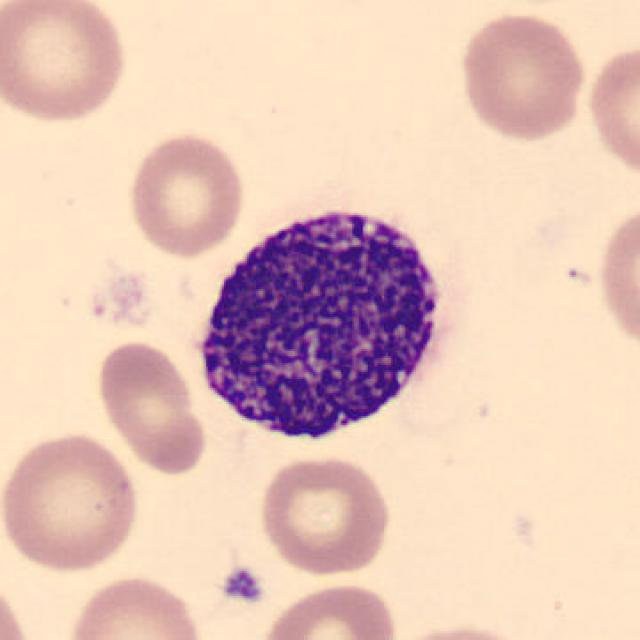Basophil: (185, 188, 467, 458)
Platelets: (217, 564, 267, 605)
RBC: (0, 426, 144, 574), (455, 9, 590, 144), (254, 452, 395, 578), (0, 0, 133, 127), (92, 337, 210, 478), (123, 129, 249, 259), (62, 571, 208, 640), (256, 580, 402, 640), (583, 39, 640, 183), (592, 197, 640, 358), (387, 620, 536, 640), (0, 569, 36, 640)
